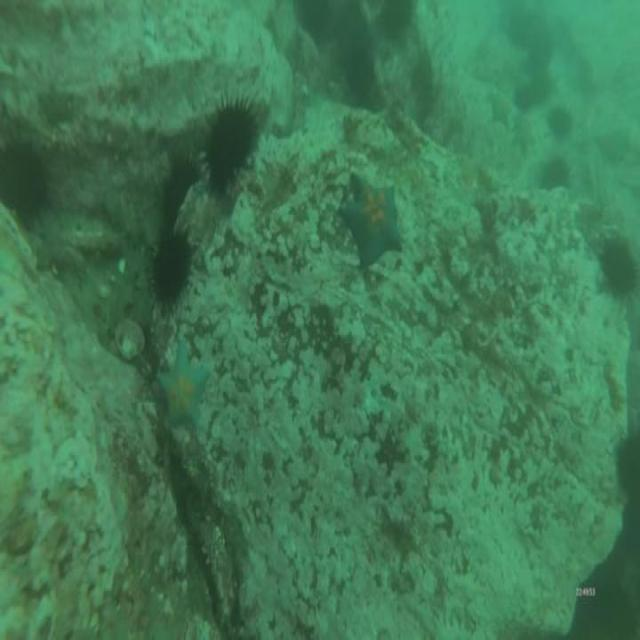echinus: (199, 89, 261, 202), (0, 132, 52, 230), (144, 228, 197, 314), (156, 153, 202, 229), (598, 231, 639, 305), (341, 40, 376, 101), (375, 0, 418, 46), (538, 147, 572, 197), (290, 0, 330, 40), (546, 100, 578, 144), (525, 29, 555, 74), (513, 79, 539, 117)
holothurian: (26, 206, 126, 259)
scallop: (110, 314, 148, 366)
starfish: (338, 167, 404, 275), (151, 334, 211, 439), (482, 84, 516, 132), (508, 112, 537, 156)
